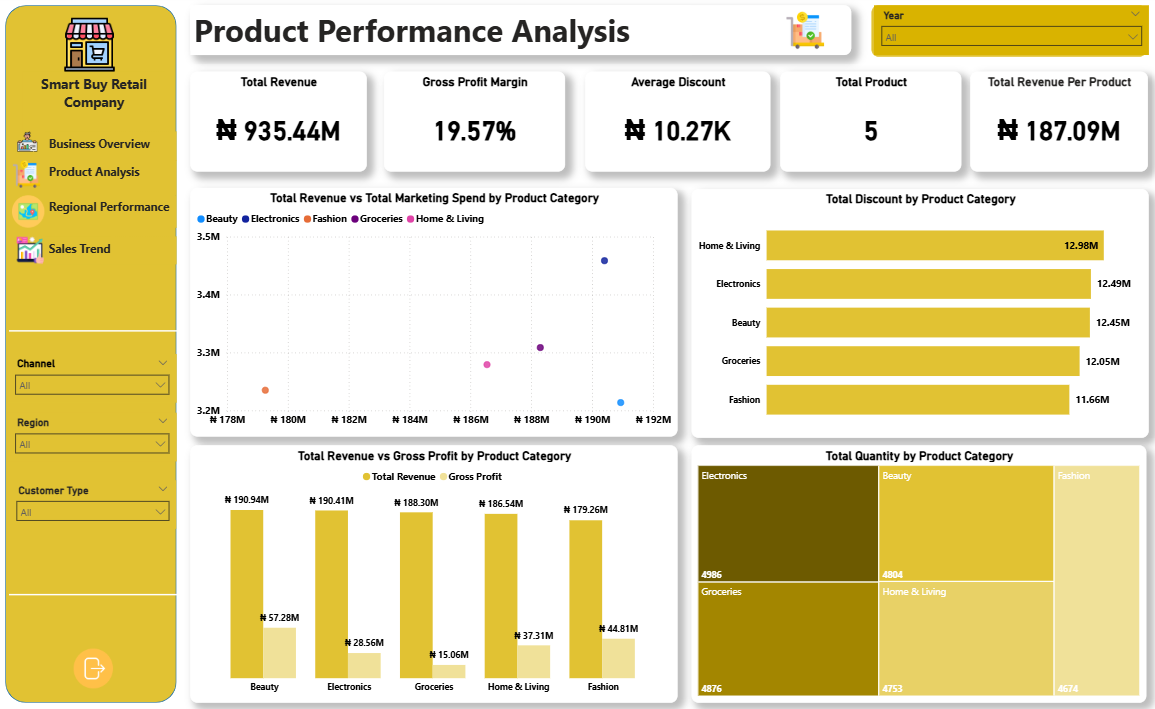

The dashboard page shown, as its layout file describes it:
{"tool":"powerbi","page":{"name":"Product_Performance","canvas":[1600,1000],"ordinal":1},"visuals":[{"type":"card","title":"Total Revenue","fields":{"Values":["Measure_Table.Total Revenue"]},"box":[264.3,107.1,243.6,138.2],"z":0},{"type":"card","title":"Gross Profit Margin","fields":{"Values":["Measure_Table.Gross Profit Margin"]},"box":[532.1,107.1,250.5,138.2],"z":1000},{"type":"card","title":"Average Discount","fields":{"Values":["Measure_Table.Average Discount"]},"box":[810.3,107.1,255.7,138.2],"z":2000},{"type":"card","title":"Total Product","fields":{"Values":["Measure_Table.Total Product"]},"box":[1079.8,107.1,250.5,138.2],"z":3000},{"type":"card","title":"Total Revenue Per Product","fields":{"Values":["Measure_Table.Total Revenue per Product"]},"box":[1342.4,107.1,245.3,138.2],"z":4000},{"type":"scatterChart","title":"Total Revenue vs Total Marketing Spend by Product Category","fields":{"Category":["Product.Product_Category"],"X":["Measure_Table.Total Revenue"],"Y":["Measure_Table.Total Marketing Spend"],"Series":["Product.Product_Category"]},"box":[264.3,267.8,673.8,343.8],"z":5000},{"type":"clusteredBarChart","title":"Total Discount by Product Category","fields":{"Category":["Product.Product_Category"],"Y":["Measure_Table.Total Discount"]},"box":[957.2,269.5,632.3,343.8],"z":6000},{"type":"shape","box":[8.6,15.5,236.7,964.1],"z":7000},{"type":"shape","box":[264.3,15.5,914,69.1],"z":8000},{"type":"shape","box":[1205.9,15.5,380.1,70.8],"z":9000},{"type":"textbox","box":[32.8,107.1,197,82.9],"z":10000},{"type":"image","box":[63.9,32.8,122.7,74.3],"z":11000},{"type":"image","box":[69.1,901.9,122.7,60.5],"z":12000},{"type":"shape","box":[13.8,758.5,236.7,143.4],"z":13000},{"type":"slicer","fields":{"Values":["Channel.Channel"]},"box":[12.1,497.6,236.7,67.4],"z":14000},{"type":"slicer","fields":{"Values":["Customer.Customer_Type"]},"box":[13.8,672.1,236.7,67.4],"z":15000},{"type":"slicer","fields":{"Values":["Region.Region"]},"box":[12.1,578.8,236.7,67.4],"z":16000},{"type":"shape","box":[13.8,419.8,236.7,91.6],"z":17000},{"type":"textbox","box":[63.9,190,181.4,39.7],"z":18000},{"type":"textbox","box":[63.9,229.8,181.4,48.4],"z":19000},{"type":"textbox","box":[63.9,278.2,181.4,44.9],"z":20000},{"type":"textbox","box":[63.9,335.2,181.4,38],"z":21000},{"type":"image","box":[13.8,190,50.1,27.6],"z":22000},{"type":"image","box":[1066,24.2,96.8,51.8],"z":23000},{"type":"image","box":[10.4,229.8,55.3,38],"z":24000},{"type":"image","box":[15.5,278.2,50.1,44.9],"z":25000},{"type":"image","box":[17.3,335.2,51.8,38],"z":26000},{"type":"clusteredColumnChart","title":"Total Revenue vs Gross Profit by Product Category","fields":{"Category":["Product.Product_Category"],"Y":["Measure_Table.Total Revenue","Measure_Table.Gross Profit"]},"box":[264.3,623.7,673.8,355.9],"z":27000},{"type":"treemap","title":"Total Quantity by Product Category","fields":{"Group":["Product.Product_Category"],"Values":["Measure_Table.Total_Quantity"]},"box":[957.2,623.7,628.9,355.9],"z":28000},{"type":"textbox","box":[264.3,15.5,692.8,70.8],"z":29000},{"type":"slicer","fields":{"Values":["DateTable.Year"]},"box":[1209.4,15.5,380.1,69.1],"z":29001}]}

Visuals, with their boxes on the page's 1600x1000 design canvas (x1, y1, x2, y2). These are canvas units, not pixel positions in the 1155x709 screenshot, which may show the page scaled, cropped or inside an application window:
"Total Revenue" card: BBox(264, 107, 508, 245)
"Gross Profit Margin" card: BBox(532, 107, 783, 245)
"Average Discount" card: BBox(810, 107, 1066, 245)
"Total Product" card: BBox(1080, 107, 1330, 245)
"Total Revenue Per Product" card: BBox(1342, 107, 1588, 245)
"Total Revenue vs Total Marketing Spend by Product Category" scatterChart: BBox(264, 268, 938, 612)
"Total Discount by Product Category" clusteredBarChart: BBox(957, 270, 1590, 613)
shape: BBox(9, 16, 245, 980)
shape: BBox(264, 16, 1178, 85)
shape: BBox(1206, 16, 1586, 86)
textbox: BBox(33, 107, 230, 190)
image: BBox(64, 33, 187, 107)
image: BBox(69, 902, 192, 962)
shape: BBox(14, 758, 250, 902)
slicer - Channel.Channel: BBox(12, 498, 249, 565)
slicer - Customer.Customer_Type: BBox(14, 672, 250, 740)
slicer - Region.Region: BBox(12, 579, 249, 646)
shape: BBox(14, 420, 250, 511)
textbox: BBox(64, 190, 245, 230)
textbox: BBox(64, 230, 245, 278)
textbox: BBox(64, 278, 245, 323)
textbox: BBox(64, 335, 245, 373)
image: BBox(14, 190, 64, 218)
image: BBox(1066, 24, 1163, 76)
image: BBox(10, 230, 66, 268)
image: BBox(16, 278, 66, 323)
image: BBox(17, 335, 69, 373)
"Total Revenue vs Gross Profit by Product Category" clusteredColumnChart: BBox(264, 624, 938, 980)
"Total Quantity by Product Category" treemap: BBox(957, 624, 1586, 980)
textbox: BBox(264, 16, 957, 86)
slicer - DateTable.Year: BBox(1209, 16, 1590, 85)
